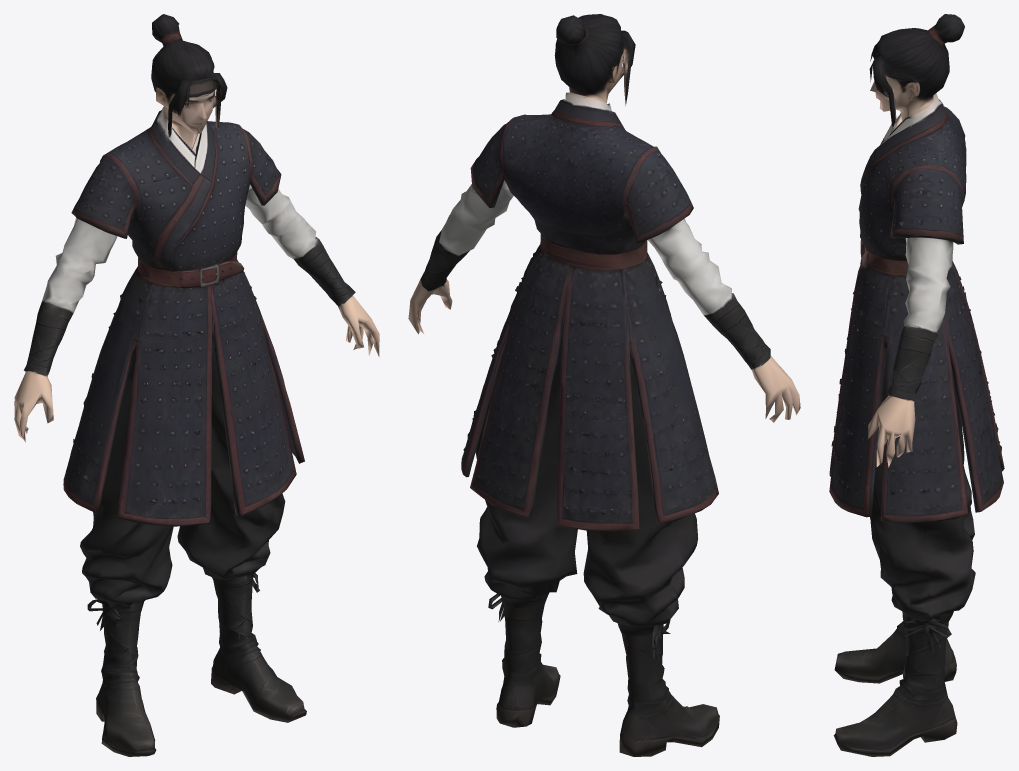
Rendered from armor_9fe4d3a6_raw.glb.
The picture shows the model from 3 angles, left to right: view 1: azimuth 30°, elevation 25°; view 2: azimuth 150°, elevation 25°; view 3: azimuth 270°, elevation 25°; orthographic projection. The views are drawn at different scales.
Visible parts, largest first — view 1: tripo_node_57cc6352-4dff-4dd2-8888-07e094394eba; view 2: tripo_node_57cc6352-4dff-4dd2-8888-07e094394eba; view 3: tripo_node_57cc6352-4dff-4dd2-8888-07e094394eba.
Part boxes in pixels (<box>): tripo_node_57cc6352-4dff-4dd2-8888-07e094394eba: <box>14,14,379,756</box>; tripo_node_57cc6352-4dff-4dd2-8888-07e094394eba: <box>408,14,800,756</box>; tripo_node_57cc6352-4dff-4dd2-8888-07e094394eba: <box>829,14,1004,756</box>.
Bounding box in the file's own units: 0.5391 × 0.9809 × 0.2237.
Materials: 1 (1 with a texture image).
